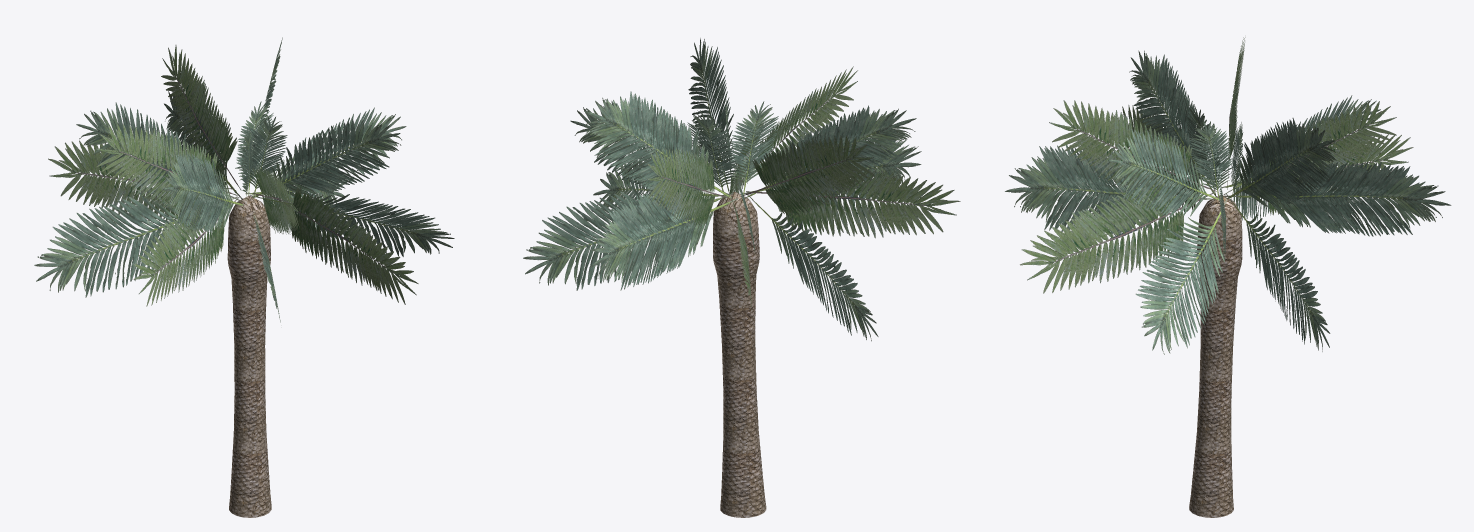
File: palm_tree_7_LOD0.FBX
3 views of the same model, side by side, from view 1: azimuth 30°, elevation 25°; view 2: azimuth 150°, elevation 25°; view 3: azimuth 270°, elevation 25° (orthographic). The views are drawn at different scales.
Parts seen in each view (by area): view 1: leaves, bark; view 2: leaves, bark; view 3: leaves, bark.
Part boxes in pixels (bbox=[...]): leaves: bbox=[34, 37, 454, 322]; bark: bbox=[227, 195, 271, 517]; leaves: bbox=[523, 38, 960, 341]; bark: bbox=[713, 192, 766, 517]; leaves: bbox=[1005, 37, 1451, 354]; bark: bbox=[1189, 195, 1242, 517].
Size of the model in its own units: 7.56 by 8.14 by 8.8.
